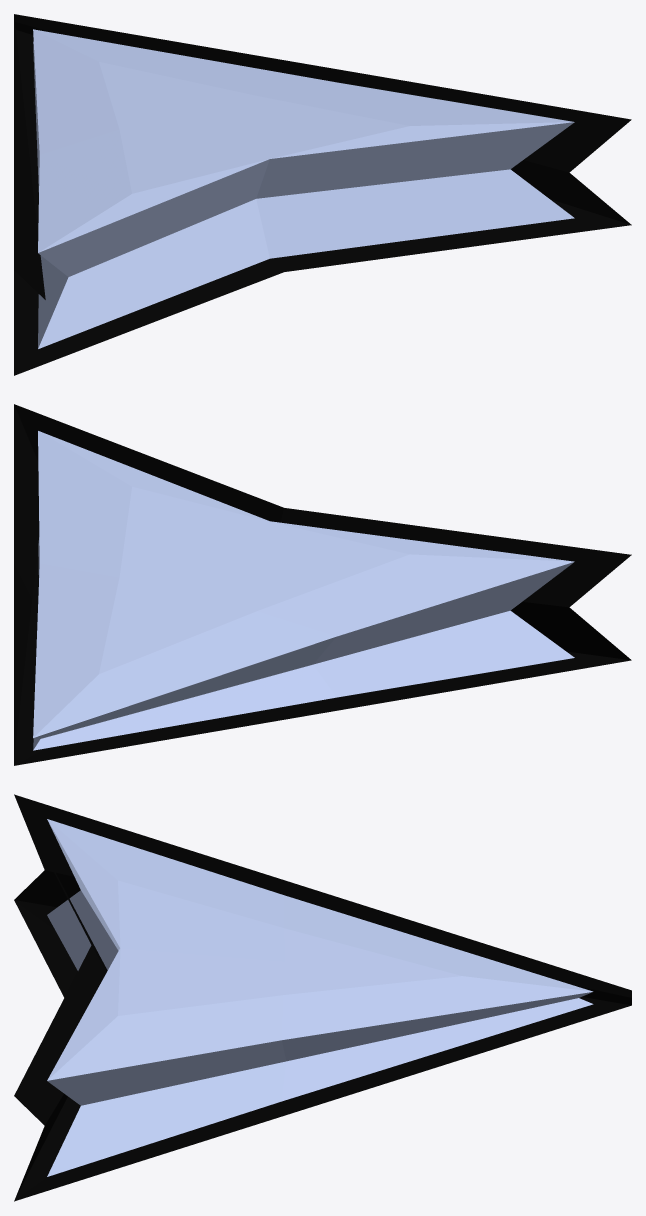
File: Mouse.fbx
3 views of the same model, one above another, from view 1: azimuth 30°, elevation 25°; view 2: azimuth 150°, elevation 25°; view 3: azimuth 270°, elevation 25° (orthographic).
Visible parts, largest first — view 1: Mouse; view 2: Mouse; view 3: Mouse.
Part boxes in pixels (box(x1,y1,x2,y2)): Mouse: box(14, 14, 631, 375); Mouse: box(14, 404, 631, 765); Mouse: box(14, 794, 631, 1201).
Bounding box in the file's own units: 0.9207 × 0.1503 × 0.7974.
